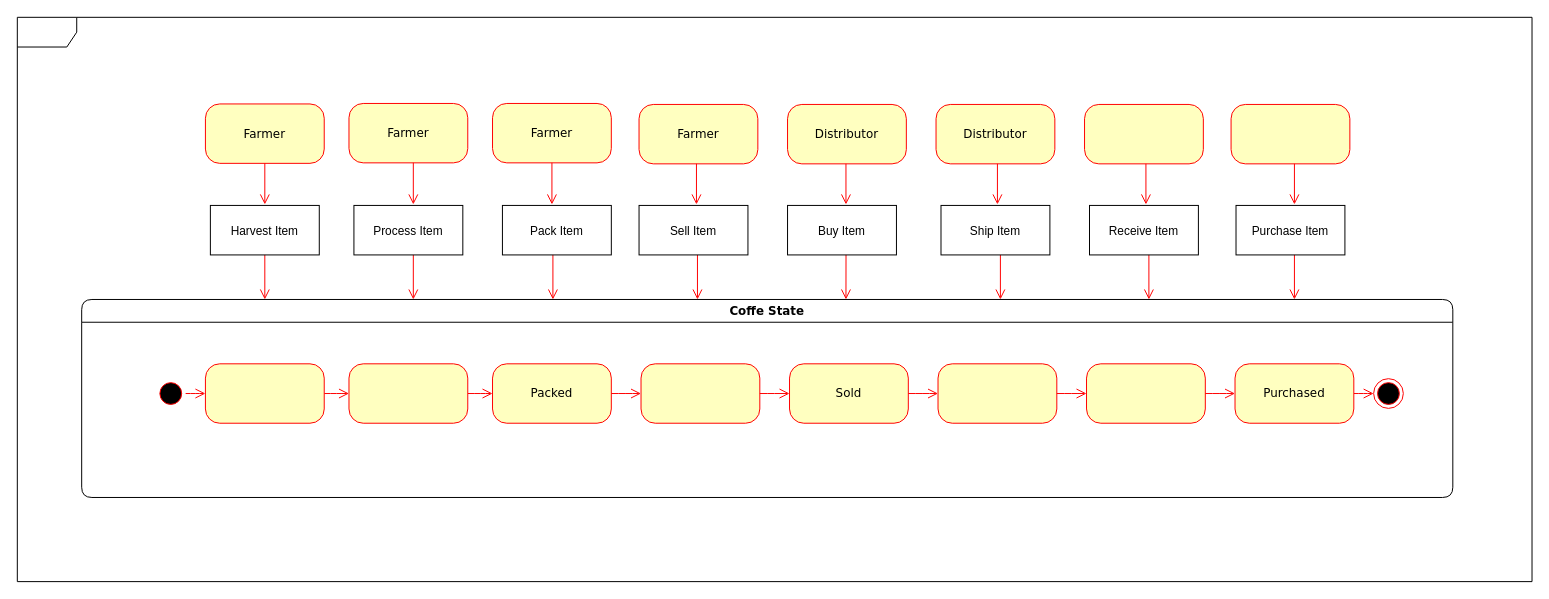
The diagram is 1549 pixels wide and 599 high, and some of its shapes have lost their labels. The shapes that lost their labels are listed below. From the top down, each one's centre as x and y in pixels, then its label:
pixel 1143 133: Retailer
pixel 1290 133: Consumer
pixel 264 393: Harvested
pixel 408 393: Processed
pixel 700 393: ForSale
pixel 997 393: Shipped
pixel 1145 393: Received
